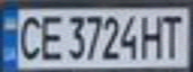2: (103, 11, 124, 61)
3: (63, 11, 87, 61)
4: (118, 11, 142, 61)
7: (81, 11, 106, 61)
C: (12, 11, 45, 62)
E: (36, 11, 66, 62)
H: (139, 11, 166, 60)
T: (157, 11, 187, 60)
